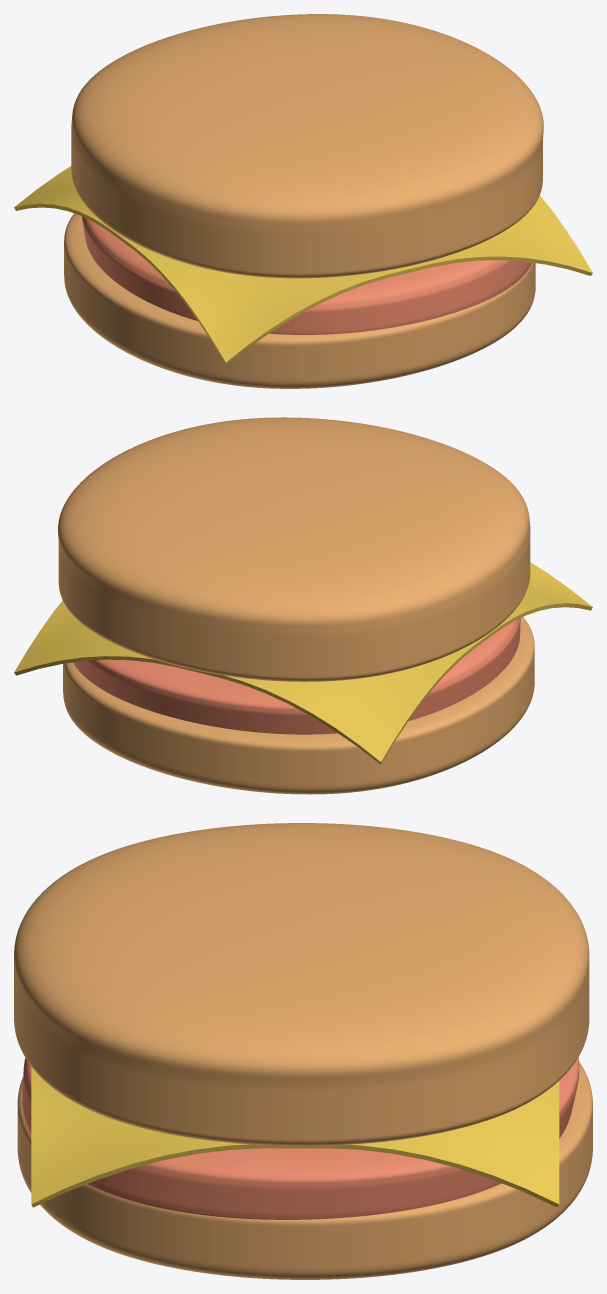
The model's file is burger.glb.
3 views of the same model, one above another, from view 1: azimuth 30°, elevation 25°; view 2: azimuth 150°, elevation 25°; view 3: azimuth 270°, elevation 25° (orthographic). The views are drawn at different scales.
Parts seen in each view (by area): view 1: Cube.002, Cube, Plane, Cube.001; view 2: Cube.002, Cube, Plane, Cube.001; view 3: Cube.002, Cube, Cube.001, Plane.
Boxes of the visible parts, x1,y1,x2,y2 form: Cube.002: (71, 14, 543, 278); Cube: (64, 213, 535, 388); Plane: (14, 166, 592, 364); Cube.001: (81, 216, 531, 334); Cube.002: (58, 417, 530, 681); Cube: (63, 617, 534, 794); Plane: (14, 562, 592, 764); Cube.001: (73, 618, 520, 734); Cube.002: (14, 823, 589, 1145); Cube: (17, 1061, 592, 1279); Cube.001: (22, 1057, 579, 1219); Plane: (31, 1067, 559, 1207).
Bounding box in the file's own units: 9.32 × 4.73 × 9.22.
